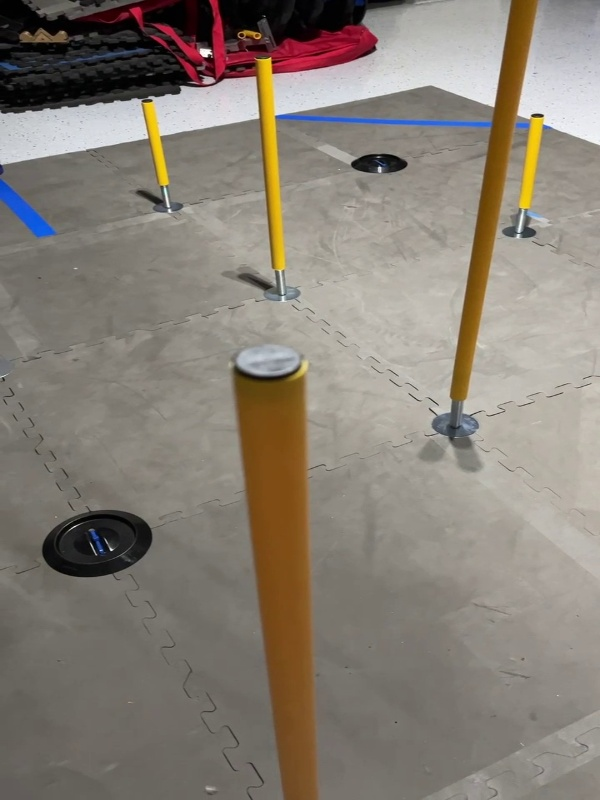top: (227, 340, 309, 385)
